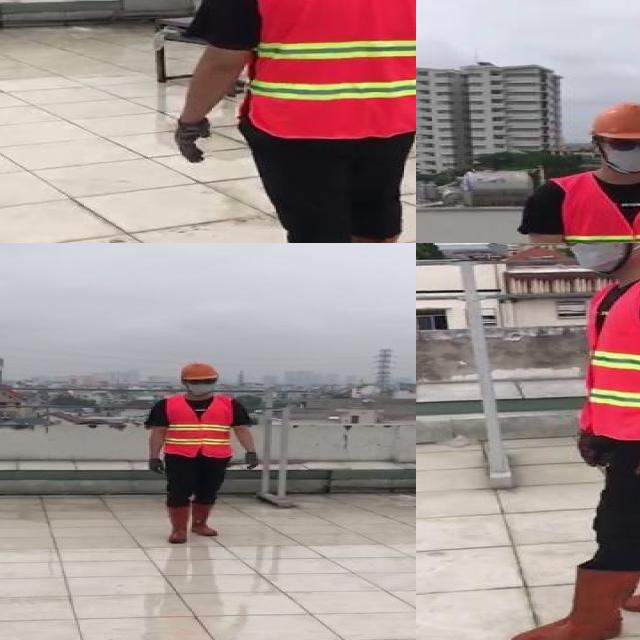boots: (509, 565, 640, 640), (162, 503, 194, 544), (190, 502, 220, 538), (348, 227, 402, 243)
face_mask: (557, 243, 628, 273), (604, 136, 640, 173)
glasses: (604, 135, 640, 154), (557, 243, 610, 250)
hand_glove: (174, 117, 216, 163), (574, 438, 612, 468)
head_helmet: (581, 100, 640, 146), (179, 361, 219, 381)
person: (158, 0, 416, 243), (506, 243, 640, 640), (141, 360, 265, 548), (514, 100, 640, 243)
vest: (249, 0, 416, 140), (580, 271, 640, 438), (556, 174, 640, 243), (164, 396, 236, 459)
